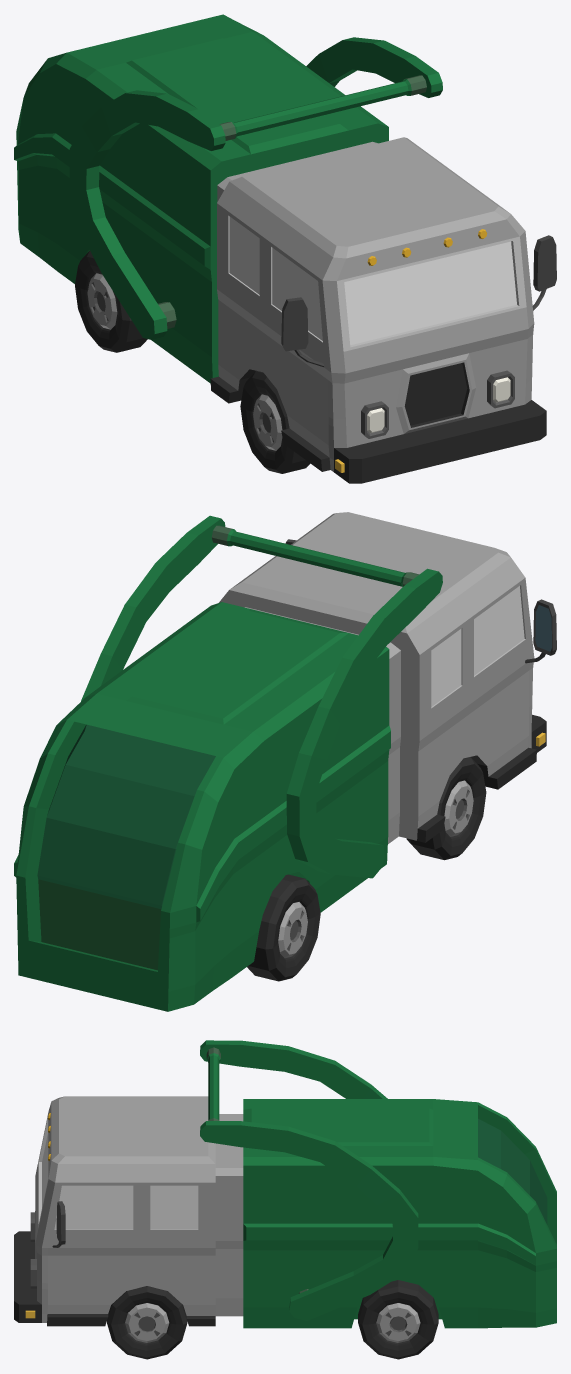
The model's file is Garbage_truck.fbx.
3 views of the same model, one above another, from view 1: azimuth 30°, elevation 25°; view 2: azimuth 150°, elevation 25°; view 3: azimuth 270°, elevation 25° (orthographic). The views are drawn at different scales.
Parts seen in each view (by area): view 1: Garbage_truck, Wheel_Big_FrontL.025, Wheel_Big_FrontL.027; view 2: Garbage_truck, Wheel_Big_FrontL.027, Wheel_Big_FrontL.025; view 3: Garbage_truck, Wheel_Big_FrontL.026, Wheel_Big_FrontL.024.
Boxes of the visible parts, left/top/right/bottom form: Garbage_truck: left=14, top=14, right=556, bottom=483; Wheel_Big_FrontL.025: left=240, top=371, right=310, bottom=473; Wheel_Big_FrontL.027: left=75, top=251, right=147, bottom=352; Garbage_truck: left=14, top=512, right=556, bottom=1011; Wheel_Big_FrontL.027: left=247, top=874, right=320, bottom=981; Wheel_Big_FrontL.025: left=406, top=757, right=486, bottom=860; Garbage_truck: left=14, top=1040, right=556, bottom=1332; Wheel_Big_FrontL.026: left=358, top=1280, right=438, bottom=1359; Wheel_Big_FrontL.024: left=107, top=1286, right=187, bottom=1359.
Bounding box in the file's own units: 449 × 499 × 1017.
